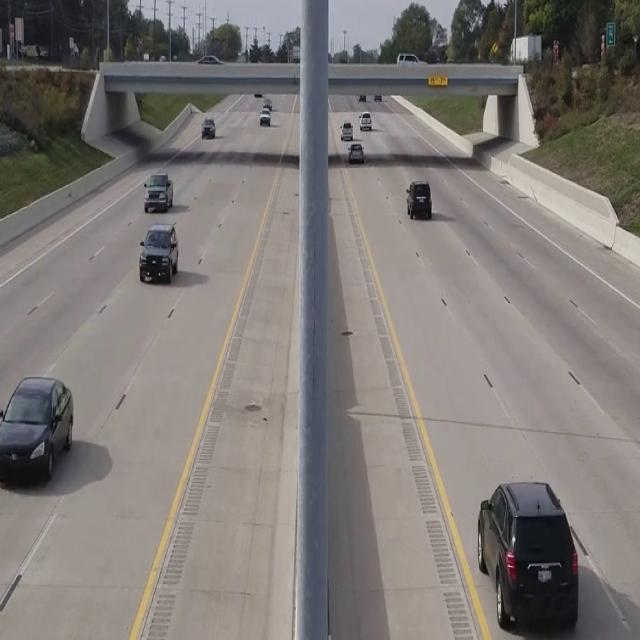car: (477, 480, 578, 630), (0, 376, 73, 483), (138, 224, 178, 283), (142, 171, 172, 213), (406, 180, 431, 219), (348, 141, 364, 163), (202, 117, 215, 139), (359, 111, 371, 130)
